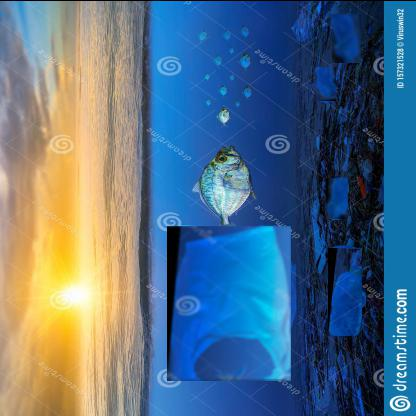bottle: (328, 246, 363, 335), (332, 12, 362, 62), (326, 176, 349, 218), (315, 65, 337, 100)
plastic-bag: (167, 224, 292, 380)
